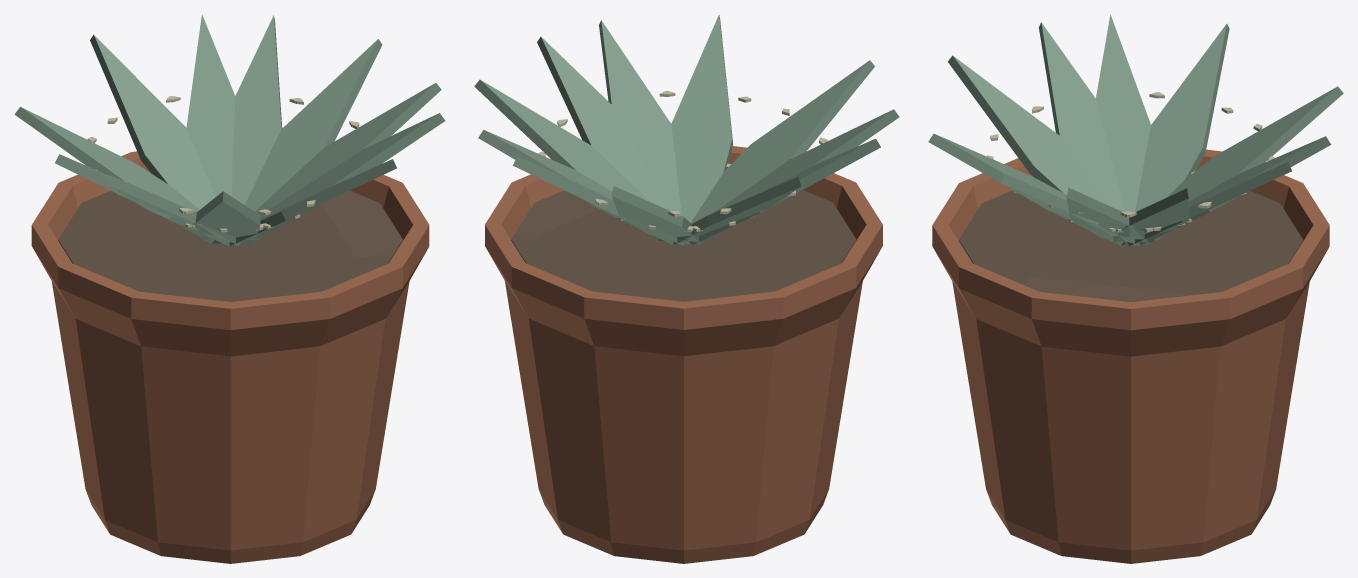
File: agave.glb
The picture shows the model from 3 angles, left to right: view 1: azimuth 30°, elevation 25°; view 2: azimuth 150°, elevation 25°; view 3: azimuth 270°, elevation 25°; orthographic projection.
Visible parts, largest first — view 1: agave/review-terra-vessel, agave/review-rooted-soil, agave/leaf-016, agave/leaf-026, agave/leaf-001, agave/leaf-041, agave/leaf-051, agave/leaf-031, agave/leaf-011, agave/leaf-021, agave/leaf-036, agave/leaf-046 (+1 smaller); view 2: agave/review-terra-vessel, agave/review-rooted-soil, agave/leaf-036, agave/leaf-021, agave/leaf-011, agave/leaf-051, agave/leaf-026, agave/leaf-046, agave/leaf-016, agave/leaf-031, agave/leaf-001, agave/leaf-006 (+1 smaller); view 3: agave/review-terra-vessel, agave/review-rooted-soil, agave/leaf-031, agave/leaf-021, agave/leaf-046, agave/leaf-006, agave/leaf-016, agave/leaf-036, agave/leaf-041, agave/leaf-026, agave/leaf-051, agave/leaf-001 (+1 smaller).
Part boxes in pixels (left/top/right/bottom): agave/review-terra-vessel: left=31, top=151, right=429, bottom=563; agave/review-rooted-soil: left=58, top=190, right=402, bottom=301; agave/leaf-016: left=90, top=35, right=215, bottom=209; agave/leaf-026: left=245, top=39, right=382, bottom=211; agave/leaf-001: left=232, top=15, right=282, bottom=204; agave/leaf-041: left=186, top=14, right=235, bottom=196; agave/leaf-051: left=255, top=83, right=441, bottom=240; agave/leaf-031: left=14, top=107, right=221, bottom=243; agave/leaf-011: left=240, top=113, right=445, bottom=244; agave/leaf-021: left=194, top=191, right=260, bottom=241; agave/leaf-036: left=229, top=159, right=396, bottom=245; agave/leaf-046: left=107, top=175, right=241, bottom=245; agave/review-terra-vessel: left=485, top=146, right=882, bottom=563; agave/review-rooted-soil: left=511, top=190, right=856, bottom=301; agave/leaf-036: left=671, top=14, right=732, bottom=222; agave/leaf-021: left=691, top=60, right=874, bottom=237; agave/leaf-011: left=599, top=20, right=681, bottom=215; agave/leaf-051: left=537, top=36, right=670, bottom=210; agave/leaf-026: left=474, top=79, right=664, bottom=241; agave/leaf-046: left=701, top=109, right=899, bottom=243; agave/leaf-016: left=611, top=186, right=701, bottom=243; agave/leaf-031: left=673, top=177, right=801, bottom=245; agave/leaf-001: left=478, top=129, right=673, bottom=244; agave/leaf-006: left=688, top=138, right=880, bottom=245; agave/review-terra-vessel: left=932, top=149, right=1329, bottom=563; agave/review-rooted-soil: left=959, top=190, right=1303, bottom=302; agave/leaf-031: left=1135, top=24, right=1229, bottom=211; agave/leaf-021: left=947, top=55, right=1110, bottom=206; agave/leaf-046: left=1039, top=22, right=1124, bottom=211; agave/leaf-006: left=1096, top=14, right=1150, bottom=211; agave/leaf-016: left=1149, top=86, right=1343, bottom=242; agave/leaf-036: left=928, top=133, right=1125, bottom=245; agave/leaf-041: left=1139, top=136, right=1331, bottom=245; agave/leaf-026: left=1111, top=188, right=1189, bottom=244; agave/leaf-051: left=1066, top=187, right=1149, bottom=244; agave/leaf-001: left=1127, top=162, right=1291, bottom=246.
Bounding box in the file's own units: 0.288 × 0.3019 × 0.2823.
Materials: 4 (4 with a texture image).
